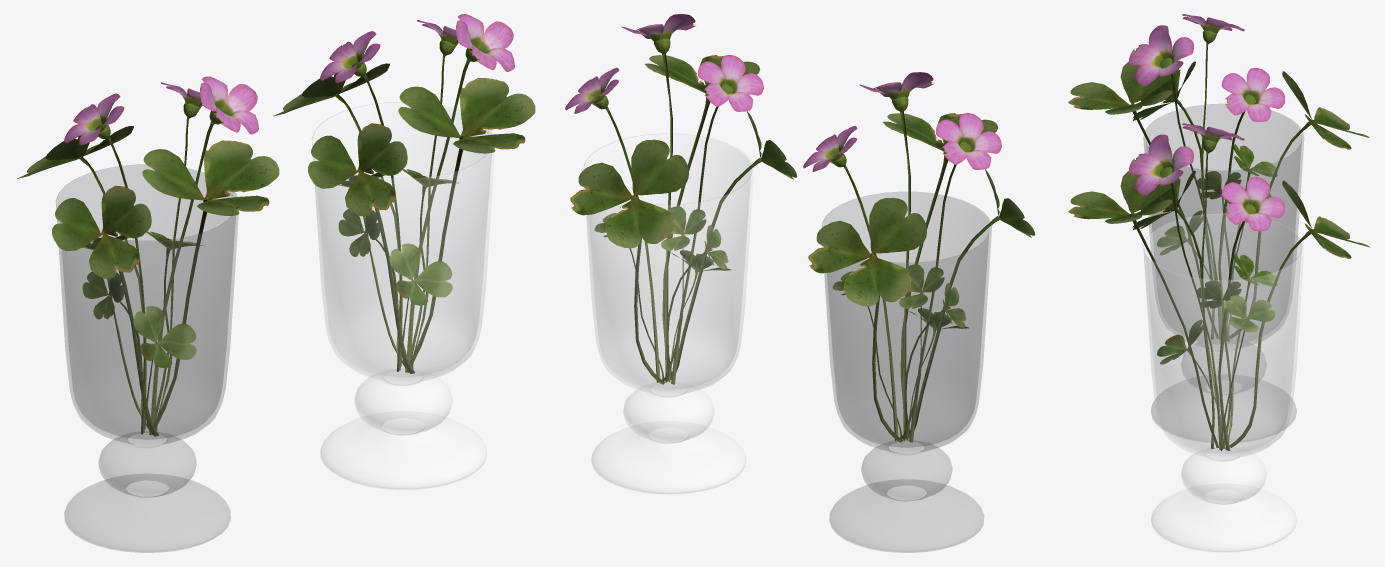
The model's file is r_vase.glb.
3 views of the same model, side by side, from view 1: azimuth 30°, elevation 25°; view 2: azimuth 150°, elevation 25°; view 3: azimuth 270°, elevation 25° (orthographic). The views are drawn at different scales.
Parts seen in each view (by area): view 1: GlassAlpha, GlassTransmission, Flowers2, Flowers1; view 2: GlassAlpha, GlassTransmission, Flowers2, Flowers1; view 3: GlassTransmission, GlassAlpha, Flowers2, Flowers1.
Part boxes in pixels (x1,y1,x2,y2): GlassAlpha: (56,164,238,552); GlassTransmission: (312,102,494,490); Flowers2: (273,14,535,373); Flowers1: (17,76,279,436); GlassAlpha: (822,192,991,552); GlassTransmission: (584,133,753,494); Flowers2: (565,14,797,384); Flowers1: (803,72,1035,443); GlassTransmission: (1143,213,1303,552); GlassAlpha: (1143,104,1303,442); Flowers2: (1068,123,1369,450); Flowers1: (1068,14,1369,341).
Size of the model in its own units: 0.2173 by 0.2032 by 0.1425.
Materials: 3 (1 with a texture image).
